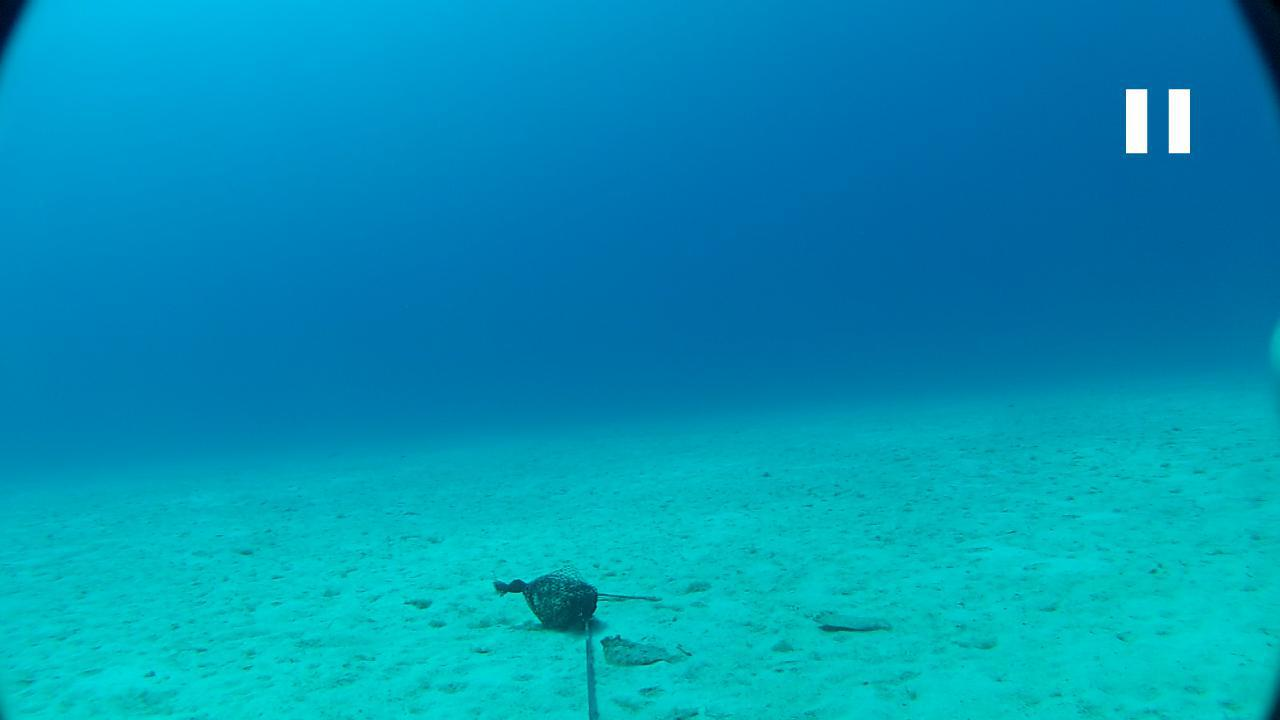bothus: (594, 626, 690, 670), (806, 603, 896, 642)
